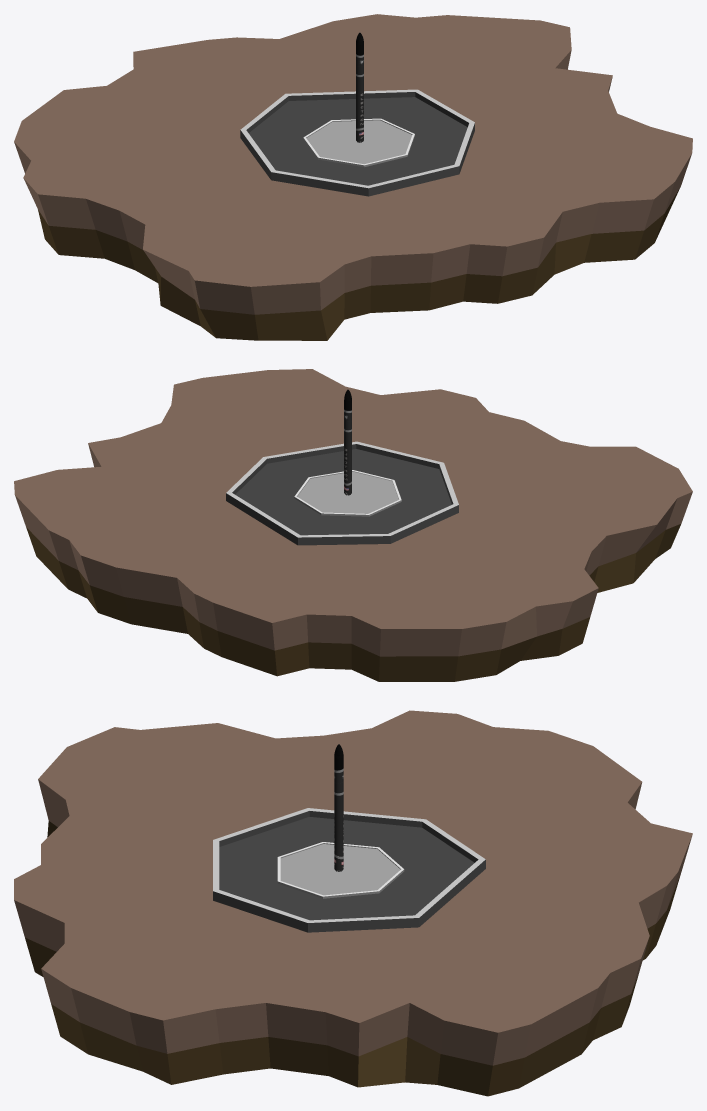
The model's file is electron-v2.gltf.
The picture shows the model from 3 angles, top to bottom: view 1: azimuth 30°, elevation 25°; view 2: azimuth 150°, elevation 25°; view 3: azimuth 270°, elevation 25°; orthographic projection. The views are drawn at different scales.
Parts seen in each view (by area): view 1: Cylinder.001, Cylinder.005; view 2: Cylinder.001, Cylinder.005; view 3: Cylinder.001, Cylinder.005.
Boxes of the visible parts, x1=… form: Cylinder.001: x1=14, y1=14, x2=692, y2=340; Cylinder.005: x1=356, y1=32, x2=363, y2=142; Cylinder.001: x1=14, y1=369, x2=692, y2=681; Cylinder.005: x1=344, y1=389, x2=351, y2=495; Cylinder.001: x1=14, y1=710, x2=692, y2=1096; Cylinder.005: x1=334, y1=744, x2=343, y2=871.
Size of the model in its own units: 8.06 by 2.39 by 7.18.
Materials: 9 (1 with a texture image).
